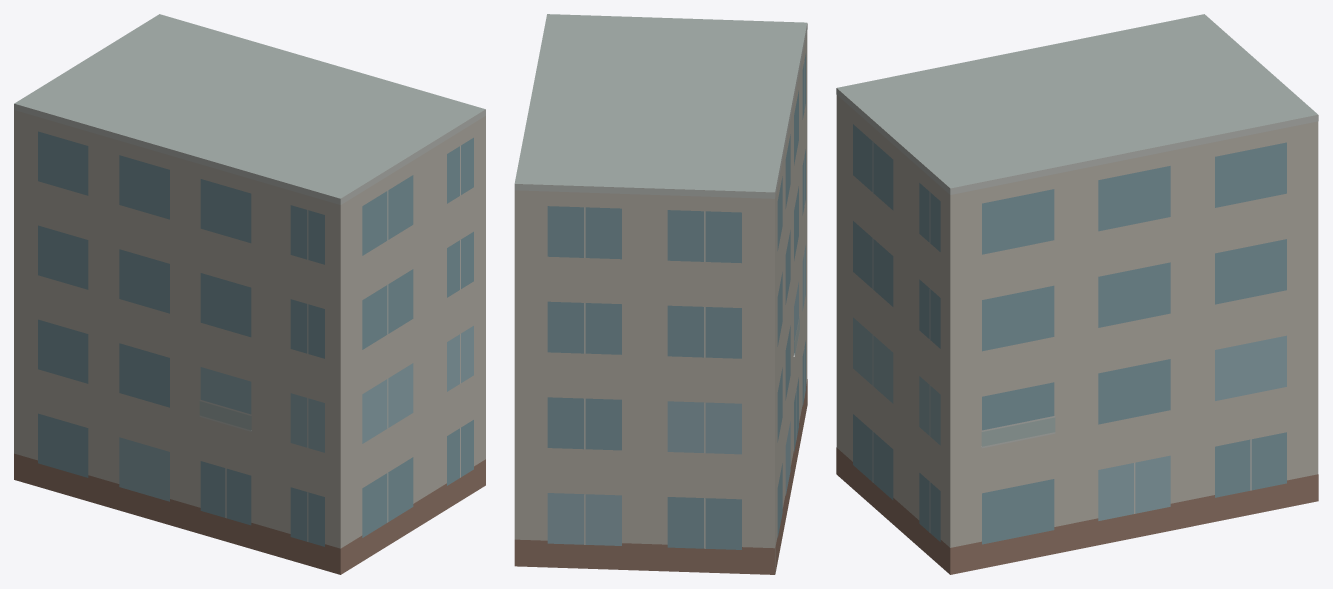
File: survey-upis-33009698.glb
3 renders of one model, left to right at view 1: azimuth 30°, elevation 25°; view 2: azimuth 150°, elevation 25°; view 3: azimuth 270°, elevation 25°, orthographic. The views are drawn at different scales.
Visible parts, largest first — view 1: survey-upis-33009698.tmp; view 2: survey-upis-33009698.tmp; view 3: survey-upis-33009698.tmp.
Boxes of the visible parts, <box> form: survey-upis-33009698.tmp: <box>14,14,485,574</box>; survey-upis-33009698.tmp: <box>514,14,807,574</box>; survey-upis-33009698.tmp: <box>836,14,1318,574</box>.
Size of the model in its own units: 13.9 by 14.35 by 16.23.
